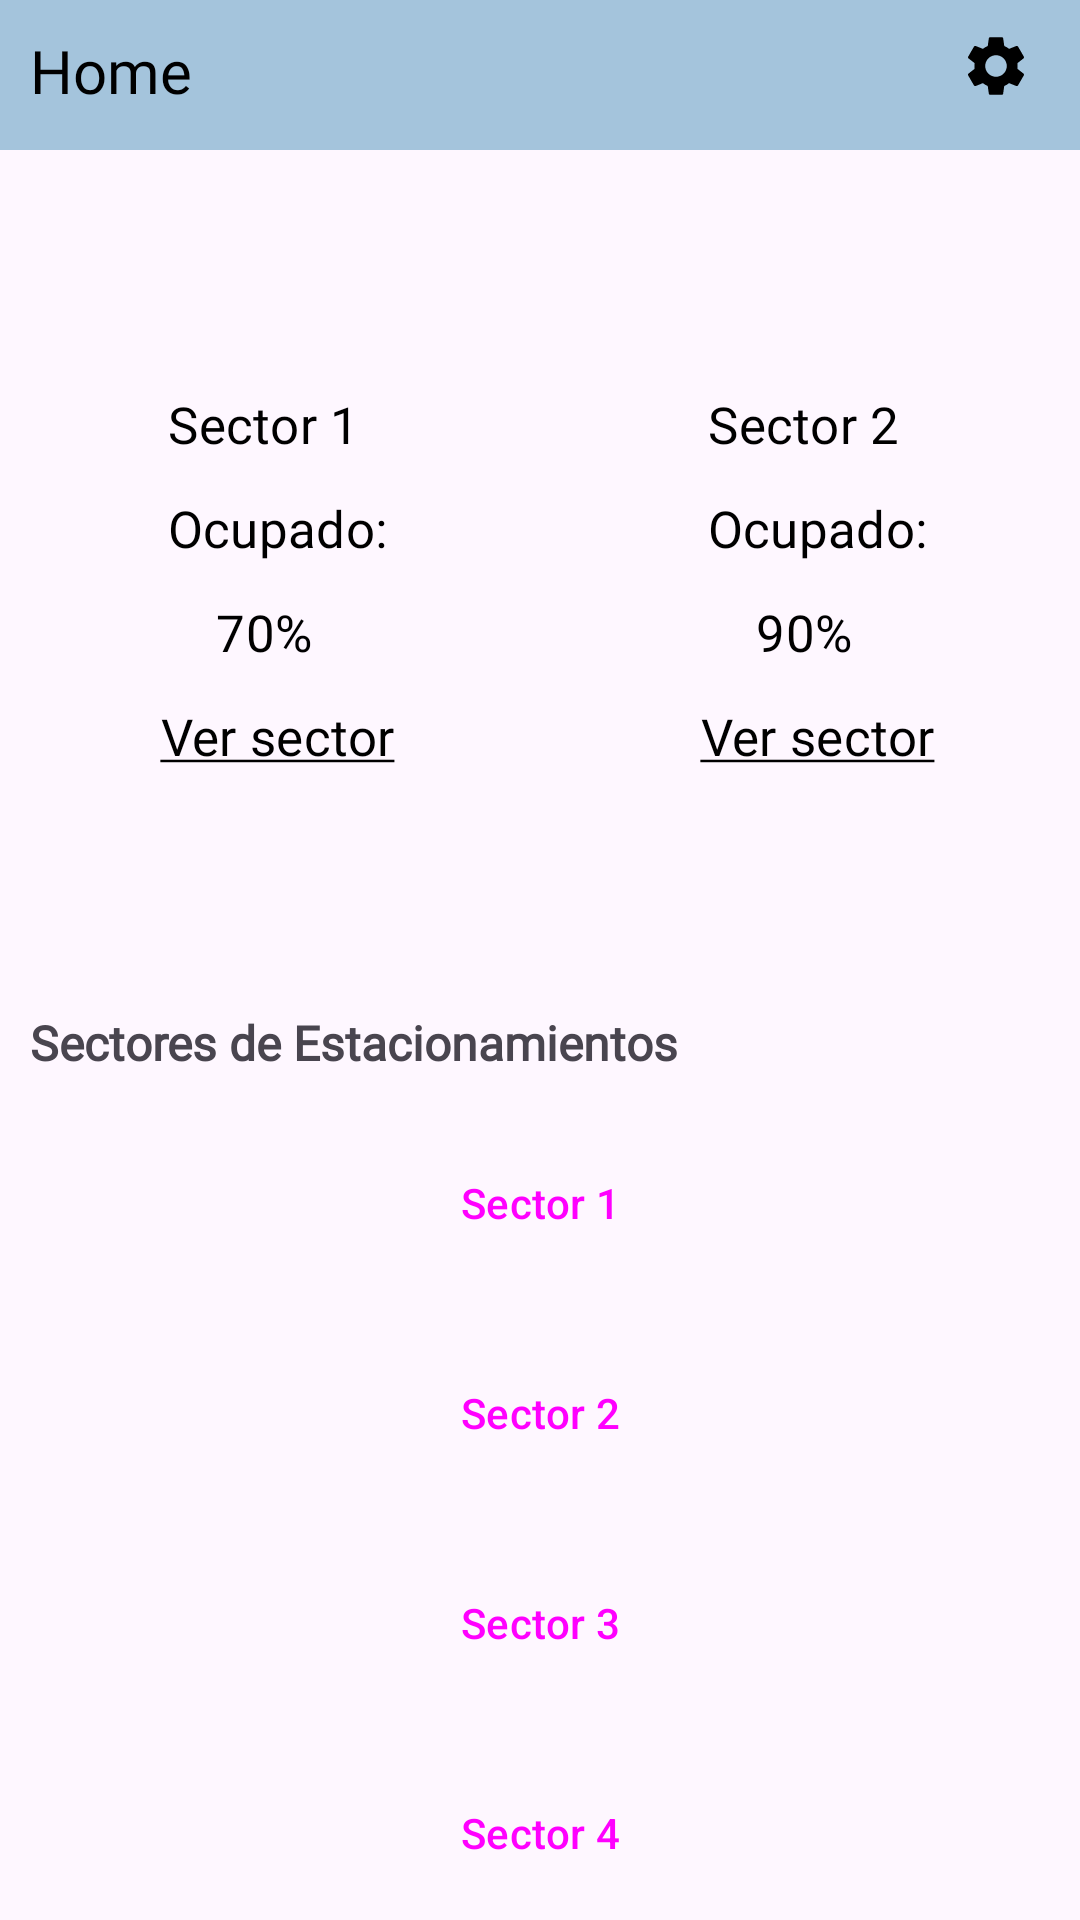

Screen size 1080×1920. Icon name, then its box in pixels as (x1, y1, x2, y2):
Icono de configuración: (968, 37, 1024, 95)
